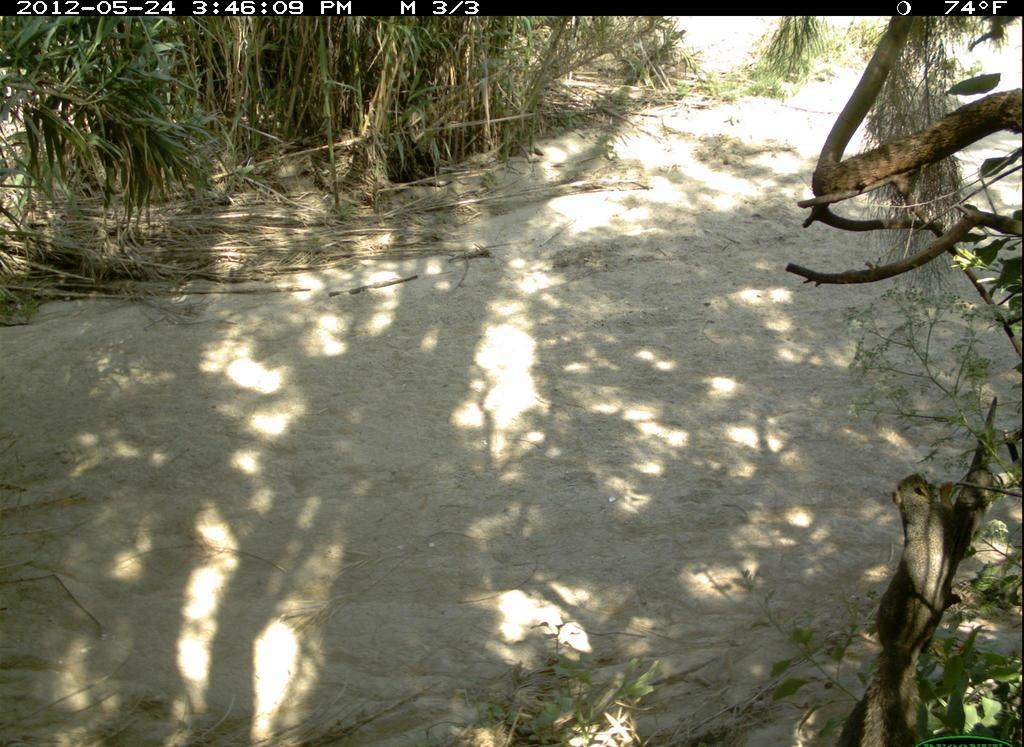squirrel: (854, 469, 978, 747)
